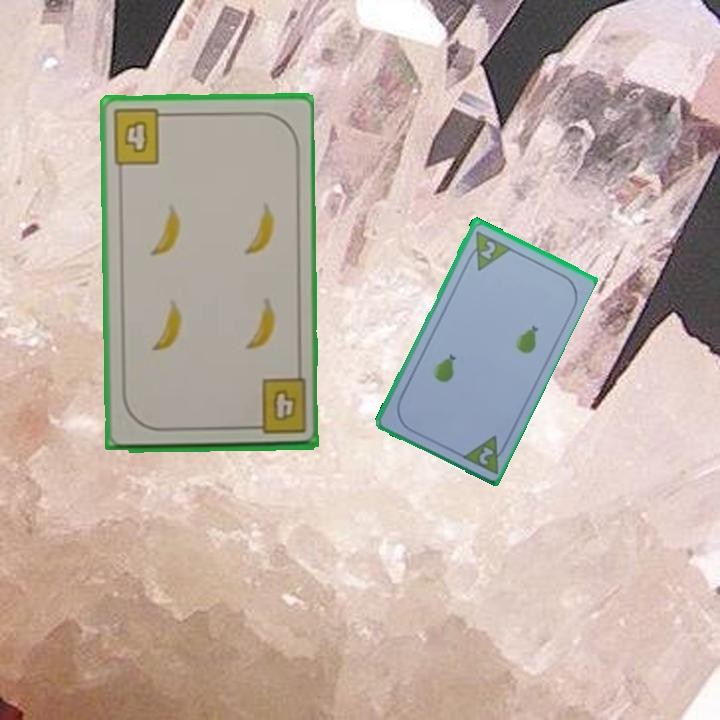2p: (462, 226, 513, 273), (475, 442, 496, 468)
4b: (109, 106, 173, 168), (244, 376, 309, 437)
